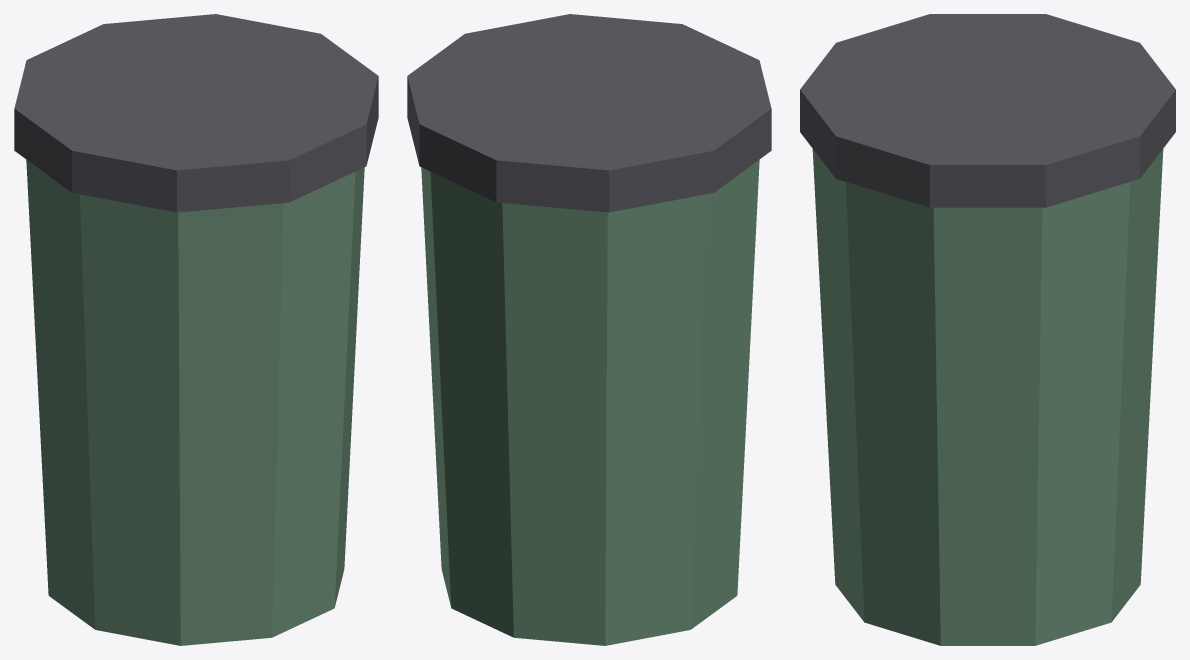
File: bin.glb
The picture shows the model from 3 angles, left to right: view 1: azimuth 30°, elevation 25°; view 2: azimuth 150°, elevation 25°; view 3: azimuth 270°, elevation 25°; orthographic projection.
Parts seen in each view (by area): view 1: bin; view 2: bin; view 3: bin.
Part boxes in pixels (<box>): bin: <box>14,14,378,645</box>; bin: <box>407,14,771,645</box>; bin: <box>800,14,1175,645</box>.
Size of the model in its own units: 0.6087 by 0.93 by 0.64.
